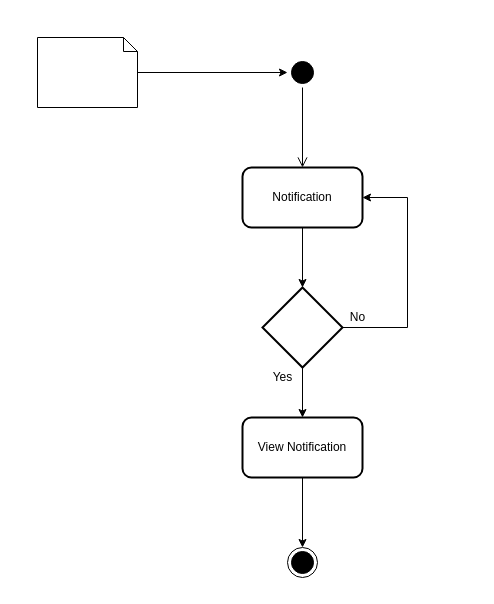
The diagram is 494 pixels wide and 604 high, and some of its shapes have lost their labels. Each missing label, with the box of its shape:
Is Exist?: (261, 286, 343, 368)
User is Logged in: (36, 36, 138, 108)
